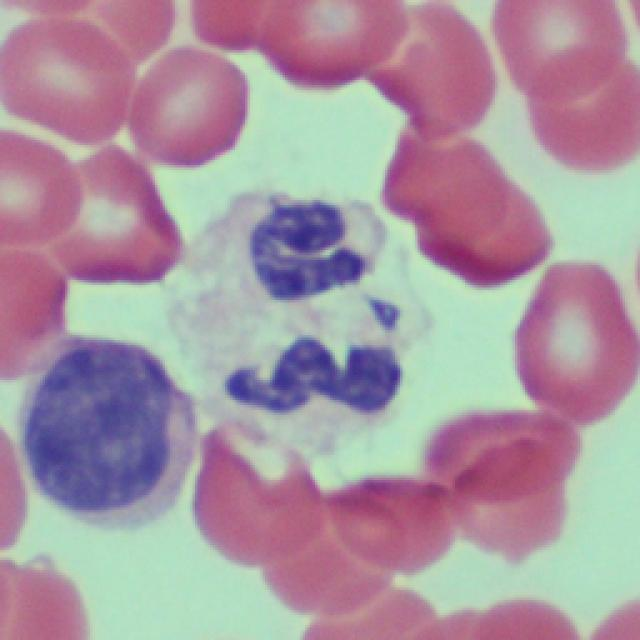RBC: (492, 0, 636, 174), (434, 392, 575, 560), (34, 134, 180, 289), (399, 128, 540, 282), (508, 259, 639, 421), (0, 1, 144, 146), (194, 422, 328, 576), (257, 496, 408, 624), (117, 44, 256, 171), (254, 0, 420, 81), (345, 453, 449, 578), (490, 0, 630, 90), (392, 0, 490, 127), (0, 541, 85, 638), (436, 592, 576, 640)
WBC: (182, 182, 409, 431), (23, 333, 201, 538)
platelets: (365, 294, 403, 344)
